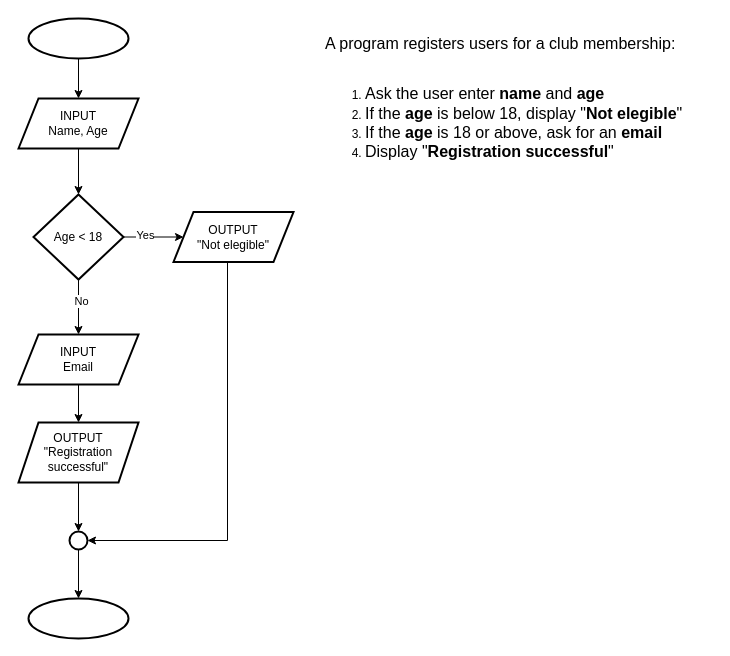
Image size: 730x656. Some labels were removed from this diagram. The shapes that lost their labels are listed below. From the top down, each one's centre as x and y in pixels, then its label:
At pixel 78 38: "Start".
At pixel 78 618: "End".
